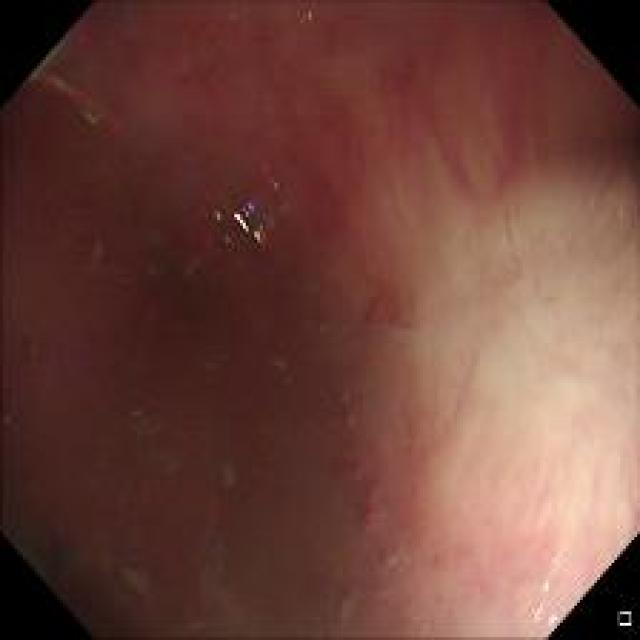bubbles: (194, 346, 221, 378), (339, 408, 360, 435), (241, 385, 262, 404), (334, 388, 352, 406), (295, 6, 314, 22)
color misalignment: (189, 151, 298, 262), (40, 68, 136, 139), (115, 551, 166, 601), (330, 580, 371, 625), (199, 480, 230, 532), (65, 15, 104, 48), (216, 452, 246, 494), (351, 501, 379, 538), (261, 350, 286, 381), (611, 204, 632, 230), (178, 265, 200, 282)
contrast: (50, 166, 388, 554)
specularity: (526, 539, 576, 634)
